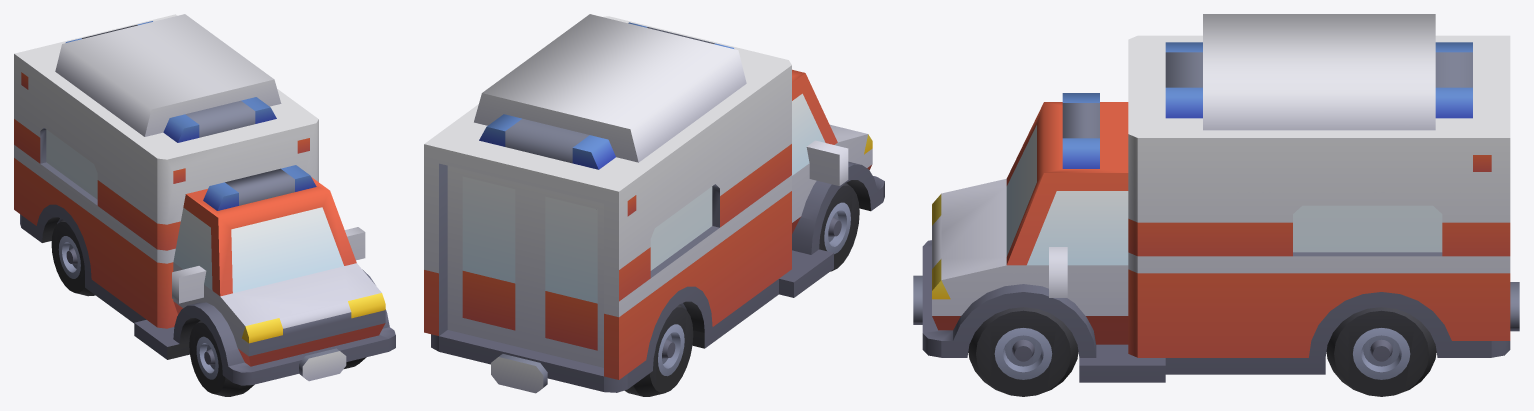
The model's file is ambulance.fbx.
The picture shows the model from 3 angles, left to right: view 1: azimuth 30°, elevation 25°; view 2: azimuth 150°, elevation 25°; view 3: azimuth 270°, elevation 25°; orthographic projection. The views are drawn at different scales.
Parts seen in each view (by area): view 1: body, wheel-front-right, wheel-back-right; view 2: body, door-left, door-right, wheel-back-right, wheel-front-right; view 3: body, wheel-back-left, wheel-front-left.
Part boxes in pixels (x1,y1,x2,y2): body: (14, 14, 395, 385); wheel-front-right: (189, 320, 254, 396); wheel-back-right: (51, 219, 95, 296); body: (424, 14, 884, 393); door-left: (447, 165, 530, 349); door-right: (530, 186, 603, 367); wheel-back-right: (624, 304, 693, 396); wheel-front-right: (819, 183, 859, 271); body: (913, 14, 1519, 382); wheel-back-left: (1326, 307, 1436, 396); wheel-front-left: (968, 307, 1078, 396).
Bounding box in the file's own units: 150 × 180 × 325.
1 material, 1 textured.
